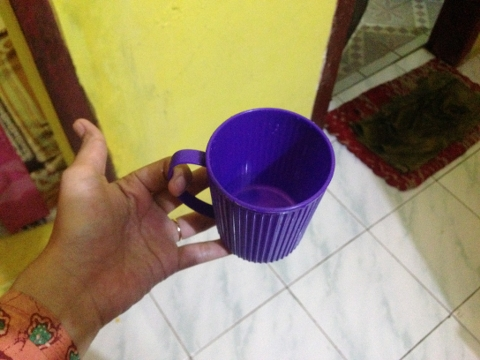tempat minum: (168, 108, 335, 263)
